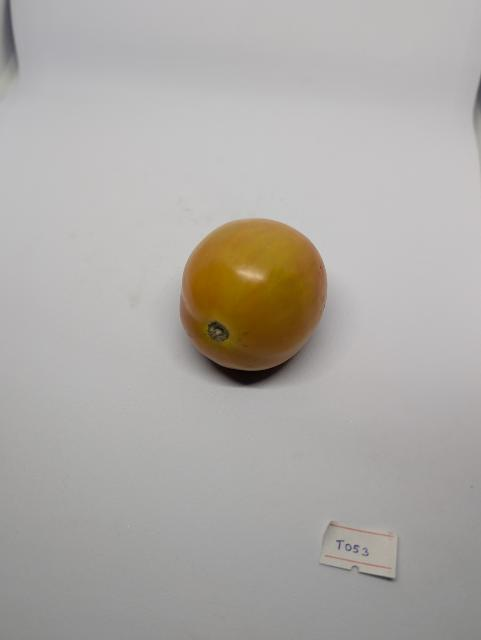turning: (169, 213, 347, 384)
